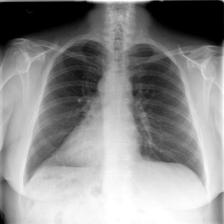normal: (18, 33, 214, 200)
